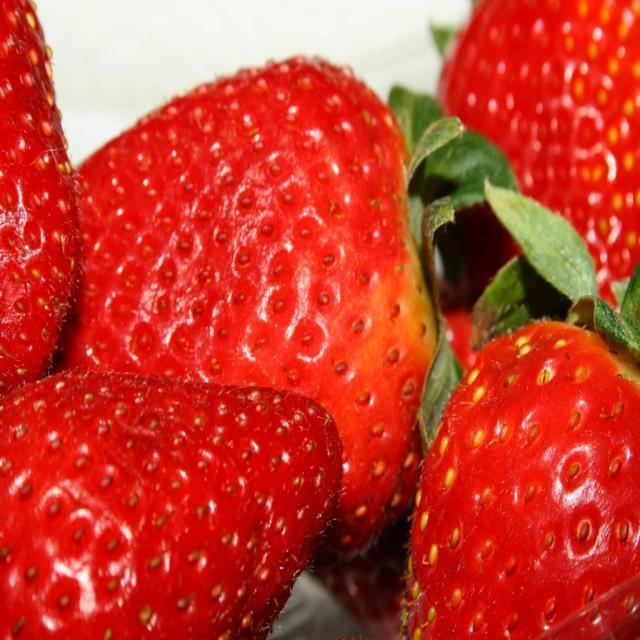Strawberry: (62, 52, 442, 560), (0, 366, 344, 638), (400, 309, 640, 638), (430, 0, 640, 317), (0, 0, 82, 398)
